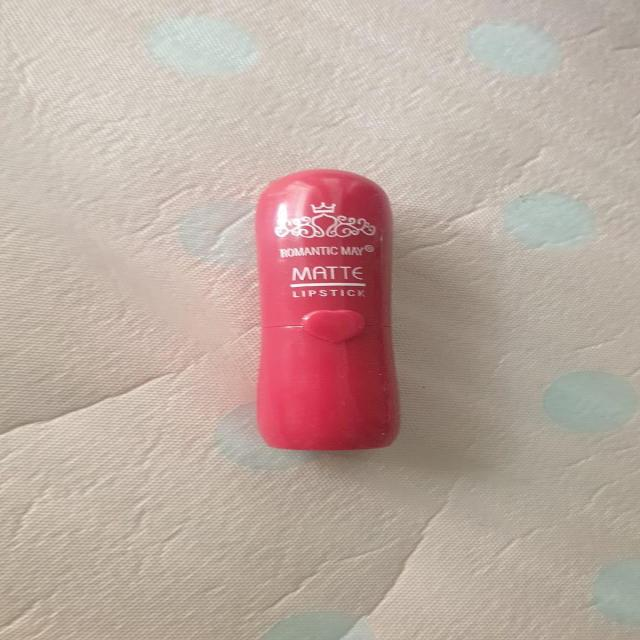lip stick: (247, 157, 413, 463)
